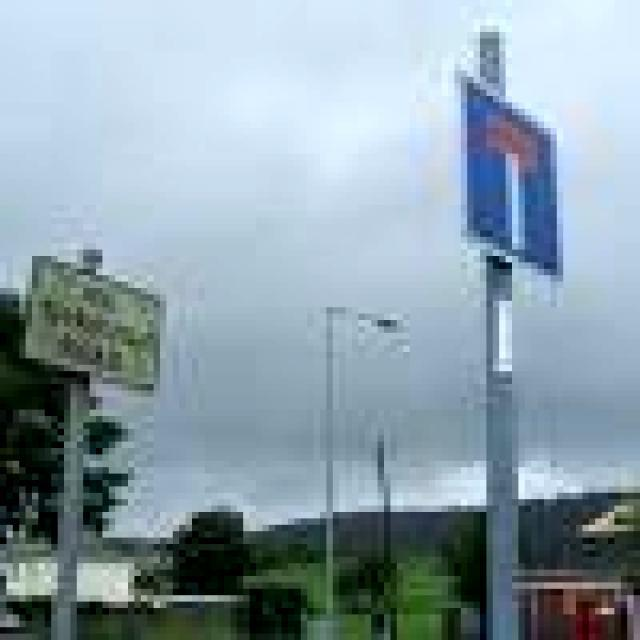Traffic sign: (445, 56, 571, 293)
